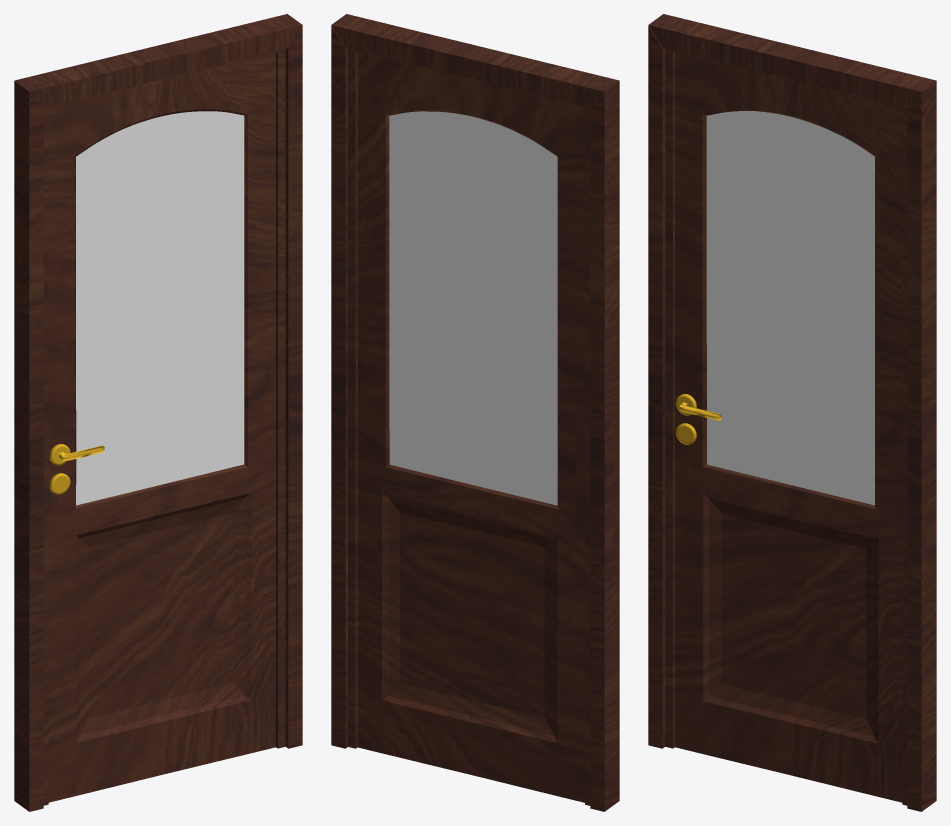
Rendered from PUERTA5_MONTANA.glb.
The picture shows the model from 3 angles, left to right: view 1: azimuth 30°, elevation 25°; view 2: azimuth 150°, elevation 25°; view 3: azimuth 330°, elevation 25°; orthographic projection.
Visible parts, largest first — view 1: Puerta5_MONTANA, CRISTAL_GRANDE, Puerta5_Marco, Puerta5_Cerradura; view 2: Puerta5_MONTANA, CRISTAL_GRANDE, Puerta5_Marco; view 3: Puerta5_MONTANA, CRISTAL_GRANDE, Puerta5_Marco, Puerta5_Cerradura.
Part boxes in pixels (x1,y1,x2,y2): Puerta5_MONTANA: (43, 49, 285, 805); CRISTAL_GRANDE: (76, 111, 244, 505); Puerta5_Marco: (14, 14, 302, 811); Puerta5_Cerradura: (49, 444, 104, 494); Puerta5_MONTANA: (348, 49, 590, 805); CRISTAL_GRANDE: (389, 111, 557, 505); Puerta5_Marco: (331, 14, 619, 811); Puerta5_MONTANA: (665, 49, 907, 805); CRISTAL_GRANDE: (706, 111, 874, 505); Puerta5_Marco: (648, 14, 936, 811); Puerta5_Cerradura: (675, 394, 721, 444).
Size of the model in its own units: 769 by 1936 by 85.
Materials: 5 (3 with a texture image).
